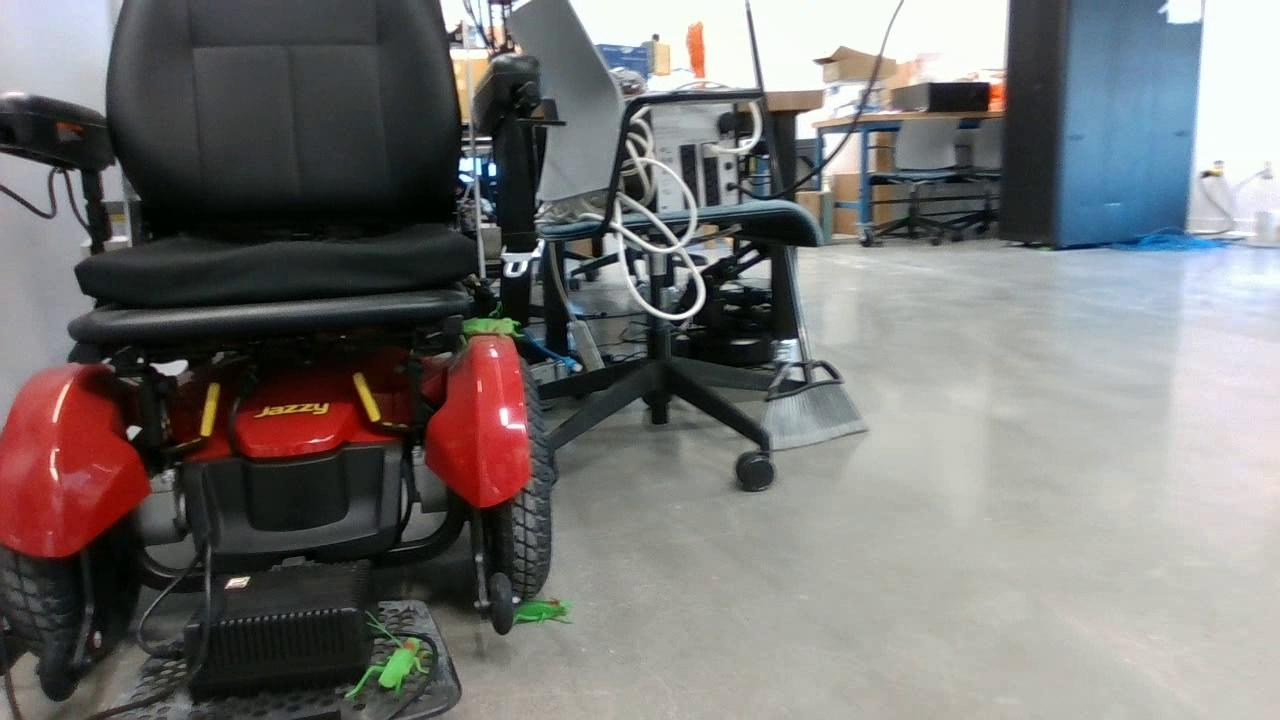grasshopper: (348, 632, 431, 701), (503, 594, 573, 626), (457, 311, 526, 341)
